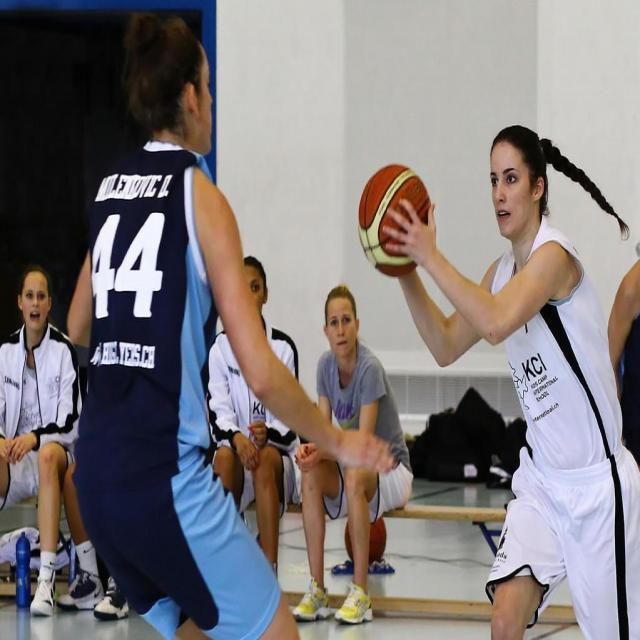rim: (358, 162, 434, 280)
